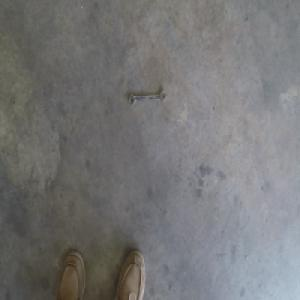Wrench: (128, 89, 167, 106)
